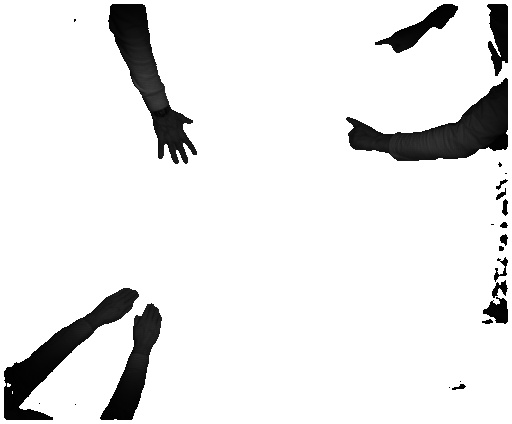hand: (154, 113, 199, 167), (91, 288, 141, 326), (134, 304, 167, 354), (368, 26, 422, 55), (344, 114, 384, 151)
